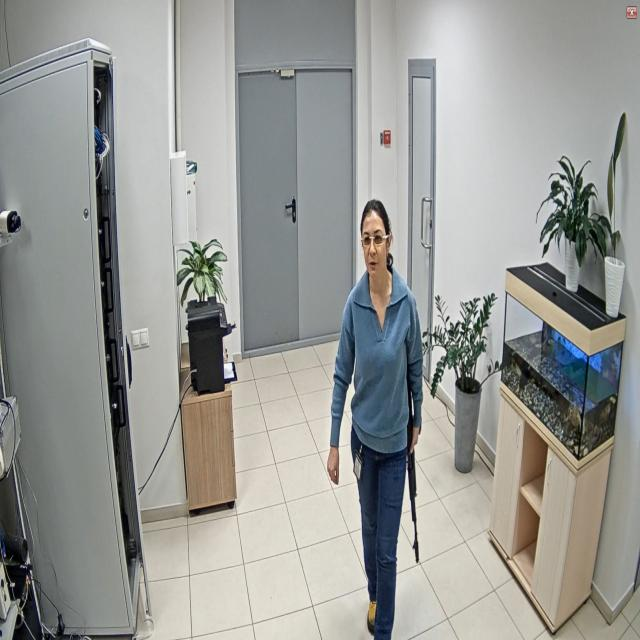-Gun: (407, 375, 419, 563)
